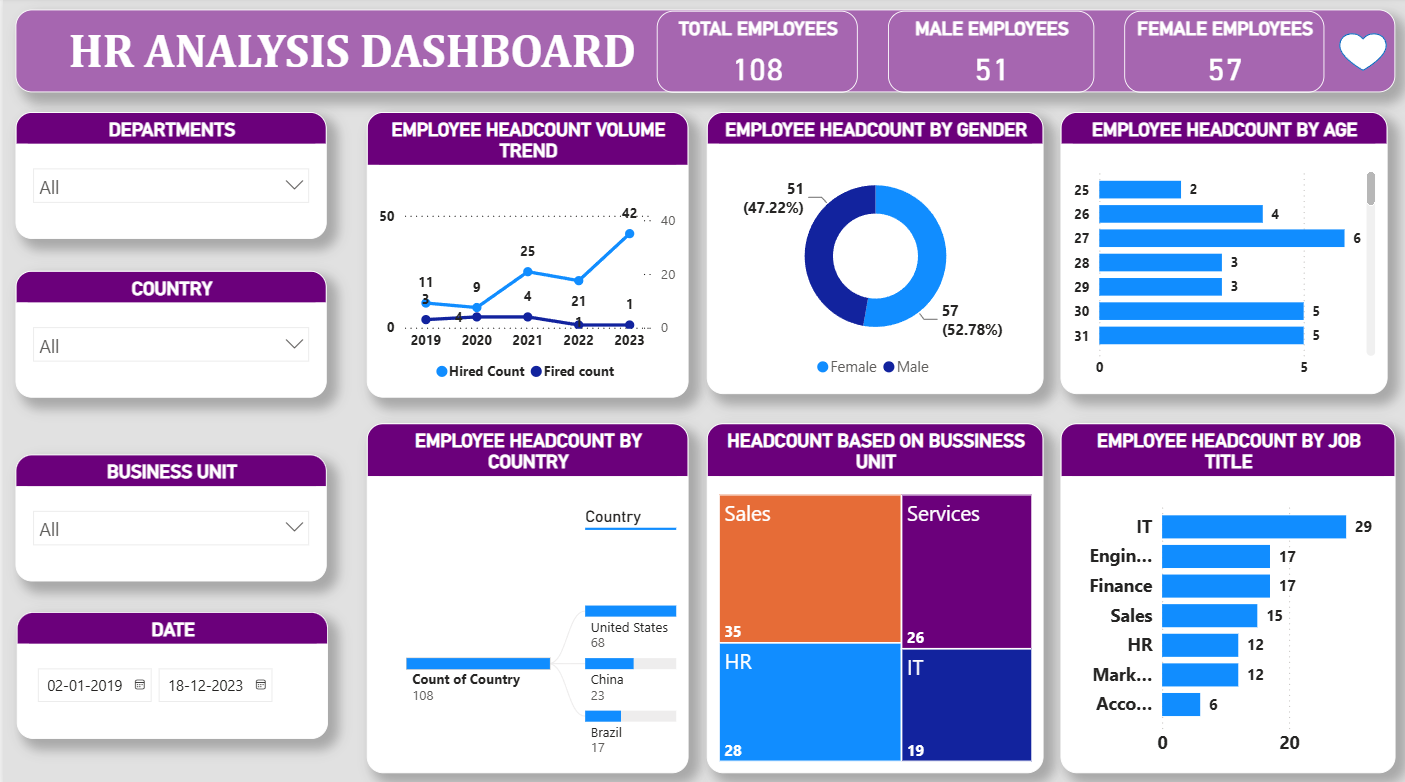

The dashboard page shown, as its layout file describes it:
{"tool":"powerbi","page":{"name":"Page 1","canvas":[1280,720],"ordinal":0},"visuals":[{"type":"textbox","box":[11.6,11.6,1252.3,75.6],"z":0},{"type":"lineChart","title":"EMPLOYEE HEADCOUNT VOLUME TREND","fields":{"Category":["Employee Data.Hire Date.Variation.Date Hierarchy.Year"],"Y":["CountNonNull(Employee Data.EEID)"],"Y2":["CountNonNull(Employee Data.End Date)"]},"box":[330.2,104.7,291.9,259.3],"z":1000},{"type":"donutChart","title":"EMPLOYEE HEADCOUNT BY GENDER","fields":{"Category":["Employee Data.Gender"],"Y":["CountNonNull(Employee Data.EEID)"]},"box":[638.4,104.7,305.8,255.8],"z":2000},{"type":"clusteredBarChart","title":"EMPLOYEE HEADCOUNT BY AGE","fields":{"Category":["Employee Data.Age"],"Y":["CountNonNull(Employee Data.EEID)"]},"box":[959.3,104.7,296.5,255.8],"z":3000},{"type":"decompositionTreeVisual","title":"EMPLOYEE HEADCOUNT BY COUNTRY","fields":{"Analyze":["CountNonNull(Employee Data.Country)"],"ExplainBy":["Employee Data.Country"]},"box":[330.2,387.2,291.9,317.4],"z":4000},{"type":"treemap","title":"HEADCOUNT BASED ON BUSSINESS UNIT","fields":{"Group":["Employee Data.Business Unit"],"Values":["CountNonNull(Employee Data.EEID)"]},"box":[638.4,387.2,305.8,317.4],"z":5000},{"type":"clusteredBarChart","title":"EMPLOYEE HEADCOUNT BY JOB TITLE","fields":{"Y":["CountNonNull(Employee Data.EEID)"],"Category":["Employee Data.Department"]},"box":[959.6,386.8,304,317.6],"z":6000},{"type":"slicer","title":"DEPARTMENTS","fields":{"Values":["Employee Data.Department"]},"box":[11.6,104.7,282.6,115.1],"z":7000},{"type":"slicer","title":"DATE","fields":{"Values":["Employee Data.Hire Date"]},"box":[12.8,558.1,282.6,115.1],"z":8000},{"type":"slicer","title":"COUNTRY","fields":{"Values":["Employee Data.Country"]},"box":[11.6,248.8,282.6,115.1],"z":9000},{"type":"slicer","title":"BUSINESS UNIT","fields":{"Values":["Employee Data.Business Unit"]},"box":[11.6,415.1,282.6,115.1],"z":10000},{"type":"card","title":"TOTAL EMPLOYEES","fields":{"Values":["CountNonNull(Employee Data.EEID)"]},"box":[593,12.8,182.6,74.4],"z":11000},{"type":"card","title":"MALE EMPLOYEES","fields":{"Values":["Employee Data.MALE EMPLOYEE COUNT"]},"box":[803.5,12.8,187.2,74.4],"z":12000},{"type":"card","title":"FEMALE EMPLOYEES","fields":{"Values":["Employee Data.FEMALE EMPLOYEE COUNT"]},"box":[1017.4,12.8,181.4,74.4],"z":12001},{"type":"shape","box":[1212.5,32.9,43.1,34],"z":12002}]}

Visuals, with their boxes in screenshot pixels (x1, y1, x2, y2), scaled from the page's 1280x720 canvas onto the 1405x782 screenshot:
textbox: [13, 13, 1387, 95]
"EMPLOYEE HEADCOUNT VOLUME TREND" lineChart: [362, 114, 683, 395]
"EMPLOYEE HEADCOUNT BY GENDER" donutChart: [701, 114, 1036, 392]
"EMPLOYEE HEADCOUNT BY AGE" clusteredBarChart: [1053, 114, 1378, 392]
"EMPLOYEE HEADCOUNT BY COUNTRY" decompositionTreeVisual: [362, 421, 683, 765]
"HEADCOUNT BASED ON BUSSINESS UNIT" treemap: [701, 421, 1036, 765]
"EMPLOYEE HEADCOUNT BY JOB TITLE" clusteredBarChart: [1053, 420, 1387, 765]
"DEPARTMENTS" slicer: [13, 114, 323, 239]
"DATE" slicer: [14, 606, 324, 731]
"COUNTRY" slicer: [13, 270, 323, 395]
"BUSINESS UNIT" slicer: [13, 451, 323, 576]
"TOTAL EMPLOYEES" card: [651, 14, 851, 95]
"MALE EMPLOYEES" card: [882, 14, 1087, 95]
"FEMALE EMPLOYEES" card: [1117, 14, 1316, 95]
shape: [1331, 36, 1378, 73]
